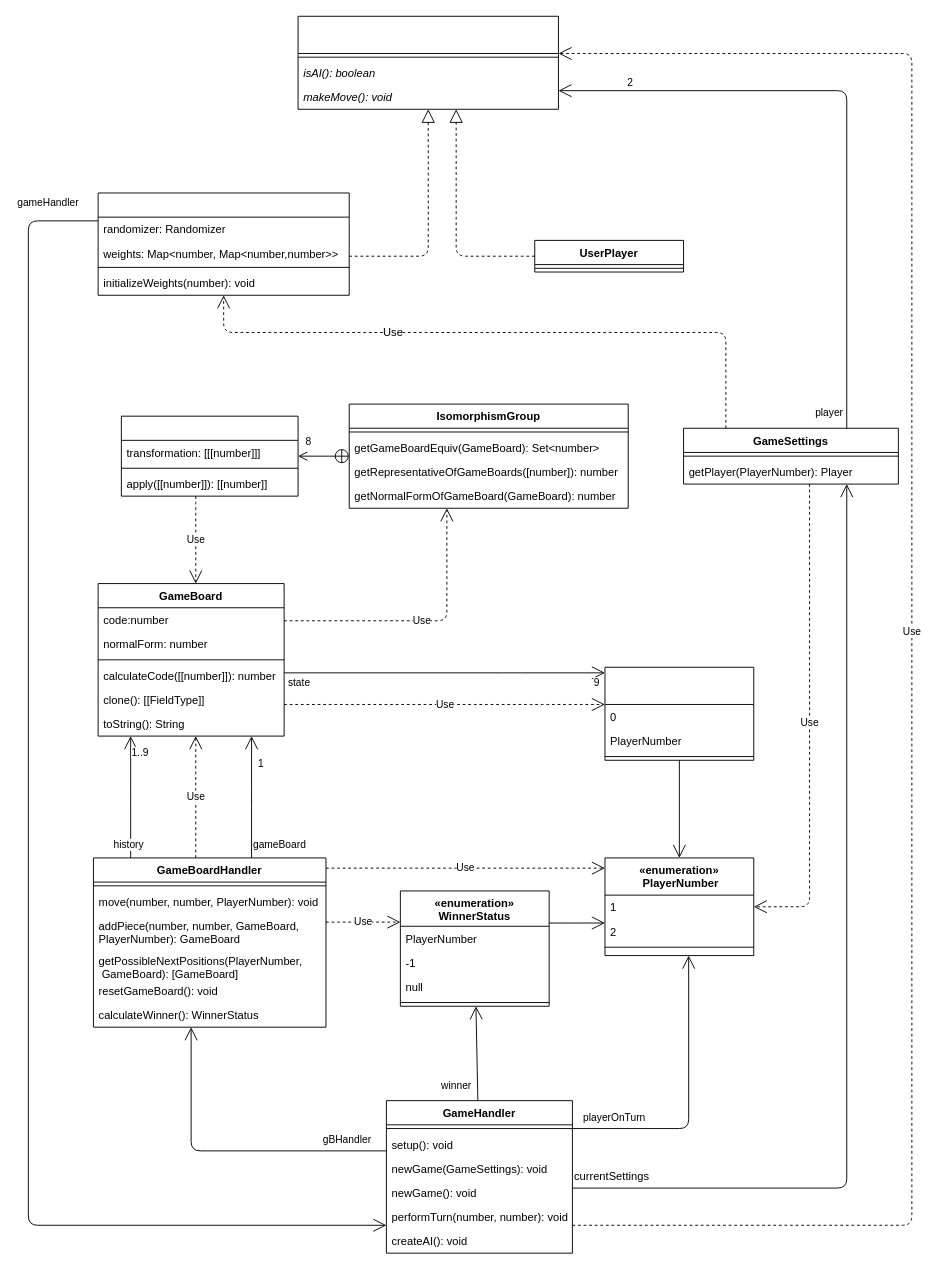
This 941x1272 diagram has some shape labels left out. Each missing label, with the box of its shape:
AIPlayer: (97, 192, 349, 295)
Isomorphism: (120, 415, 298, 496)
«enumeration» FieldType: (604, 666, 754, 760)
«Interface» Player: (297, 15, 558, 109)
